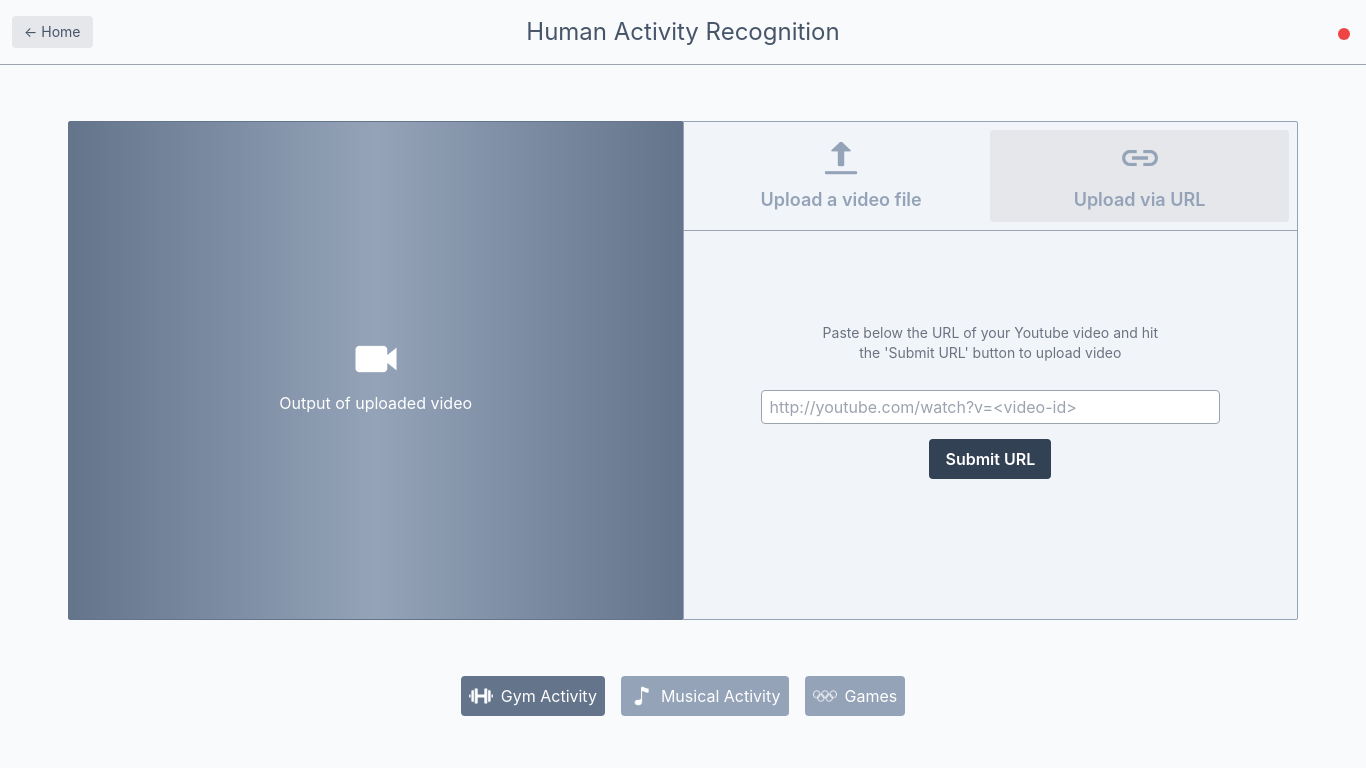
Test case: Integration testing of render components › validate youtube URL
The image size is (1366, 768).
Type "https://www.youtube.com/watch?v=IiawByKdv0" into the field with placeholder "http://youtube.com/watch?v=<video-id>" at x=990, y=407, box x1=761 y1=390 x2=1220 y2=424
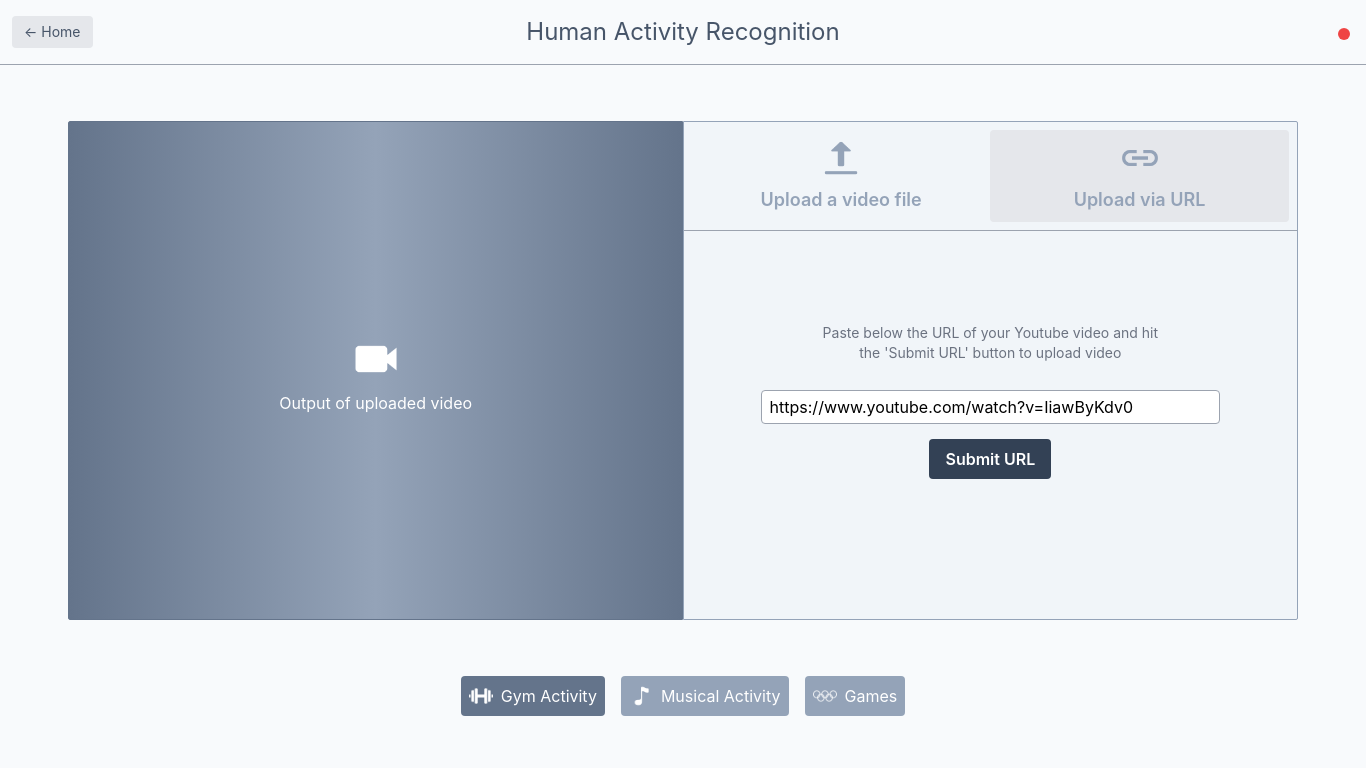
Click the button "Submit URL" at x=990, y=459, box x1=930 y1=439 x2=1051 y2=479
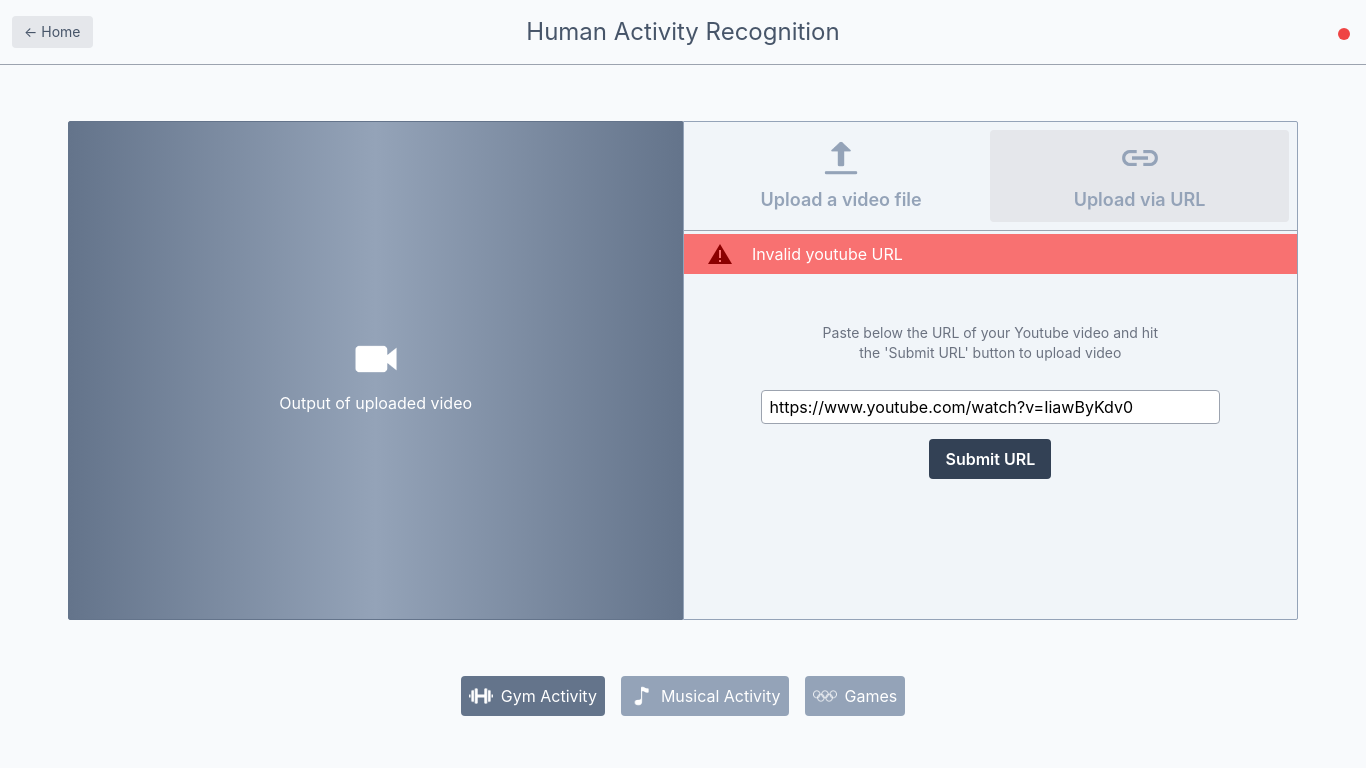
Result: the element with test id "alertpopup" is shown at x1=684 y1=234 x2=1297 y2=274
Result: the element with test id "alertpopup" reads "Invalid youtube URL" at x1=752 y1=244 x2=903 y2=264
